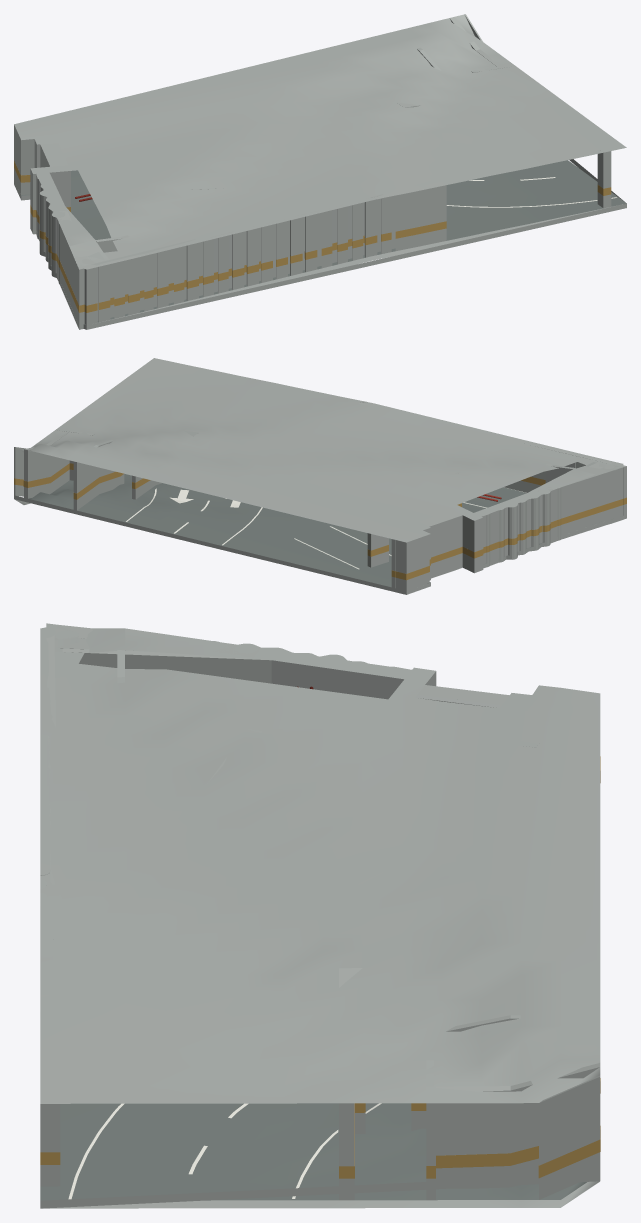
File: B03-west-drive.glb
3 renders of one model, top to bottom at view 1: azimuth 30°, elevation 25°; view 2: azimuth 150°, elevation 25°; view 3: azimuth 270°, elevation 25°, orthographic. The views are drawn at different scales.
Visible parts, largest first — view 1: ASSUMED | ceiling2.70 above floor, SOURCE GRADES | interpolated floor, SOURCE WALL 816, SCENE CUT | slab edge.037, SOURCE WALL 129, SOURCE GRADES | floor underside, SOURCE WALL 757, SOURCE WALL 680, SOURCE WALL 676, SOURCE WALL 18, SOURCE WALL 696, SOURCE WALL 715 (+21 smaller); view 2: ASSUMED | ceiling2.70 above floor, SOURCE GRADES | interpolated floor, SOURCE WALL 757, SCENE CUT | slab edge.035, SOURCE WALL 662, SOURCE WALL 680, SOURCE WALL 820, SOURCE WALL 37, SOURCE WALL 676, SOURCE WALL 55, SOURCE WALL 93, SOURCE WALL 816 (+8 smaller); view 3: ASSUMED | ceiling2.70 above floor, SOURCE GRADES | interpolated floor, SOURCE WALL 26, SOURCE WALL 25, SCENE CUT | slab edge.036, SOURCE GRADES | floor underside, SOURCE WALL 782, SOURCE WALL 820, SOURCE WALL 37, SOURCE WALL 18, SOURCE WALL 9, PROPOSED | identity band.004 (+3 smaller).
Boxes of the visible parts, left/top/right/bottom form: ASSUMED | ceiling2.70 above floor: left=14, top=14, right=626, bottom=269; SOURCE GRADES | interpolated floor: left=21, top=160, right=626, bottom=324; SOURCE WALL 816: left=91, top=194, right=395, bottom=320; SCENE CUT | slab edge.037: left=86, top=203, right=626, bottom=329; SOURCE WALL 129: left=415, top=182, right=446, bottom=247; SOURCE GRADES | floor underside: left=76, top=205, right=616, bottom=323; SOURCE WALL 757: left=56, top=211, right=90, bottom=322; SOURCE WALL 680: left=14, top=124, right=34, bottom=194; SOURCE WALL 676: left=30, top=167, right=70, bottom=229; SOURCE WALL 18: left=597, top=147, right=611, bottom=208; SOURCE WALL 696: left=84, top=264, right=97, bottom=325; SOURCE WALL 715: left=364, top=198, right=377, bottom=257; ASSUMED | ceiling2.70 above floor: left=16, top=358, right=625, bottom=542; SOURCE GRADES | interpolated floor: left=29, top=474, right=543, bottom=587; SOURCE WALL 757: left=538, top=464, right=623, bottom=542; SCENE CUT | slab edge.035: left=14, top=495, right=406, bottom=594; SOURCE WALL 662: left=422, top=511, right=462, bottom=574; SOURCE WALL 680: left=395, top=534, right=429, bottom=590; SOURCE WALL 820: left=475, top=491, right=541, bottom=564; SOURCE WALL 37: left=24, top=444, right=50, bottom=498; SOURCE WALL 676: left=453, top=507, right=483, bottom=569; SOURCE WALL 55: left=73, top=445, right=99, bottom=510; SOURCE WALL 93: left=367, top=512, right=388, bottom=567; SOURCE WALL 816: left=359, top=403, right=612, bottom=492; ASSUMED | ceiling2.70 above floor: left=40, top=624, right=600, bottom=1103; SOURCE GRADES | interpolated floor: left=40, top=1103, right=586, bottom=1200; SOURCE WALL 26: left=436, top=1086, right=510, bottom=1188; SOURCE WALL 25: left=539, top=1075, right=600, bottom=1199; SCENE CUT | slab edge.036: left=40, top=1173, right=600, bottom=1208; SOURCE GRADES | floor underside: left=43, top=1181, right=599, bottom=1208; SOURCE WALL 782: left=62, top=648, right=271, bottom=683; SOURCE WALL 820: left=254, top=648, right=407, bottom=699; SOURCE WALL 37: left=510, top=1063, right=600, bottom=1187; SOURCE WALL 18: left=40, top=1082, right=60, bottom=1186; SOURCE WALL 9: left=339, top=1103, right=354, bottom=1200; PROPOSED | identity band.004: left=436, top=1153, right=510, bottom=1168.
Size of the model in its own units: 27.68 by 3.68 by 14.16.
